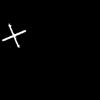single_crochet: (3, 25, 24, 46)
